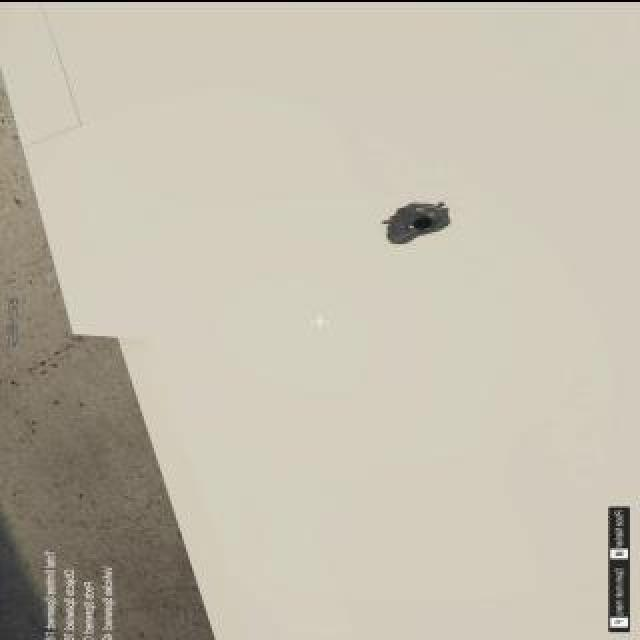crack: (378, 195, 458, 247)
